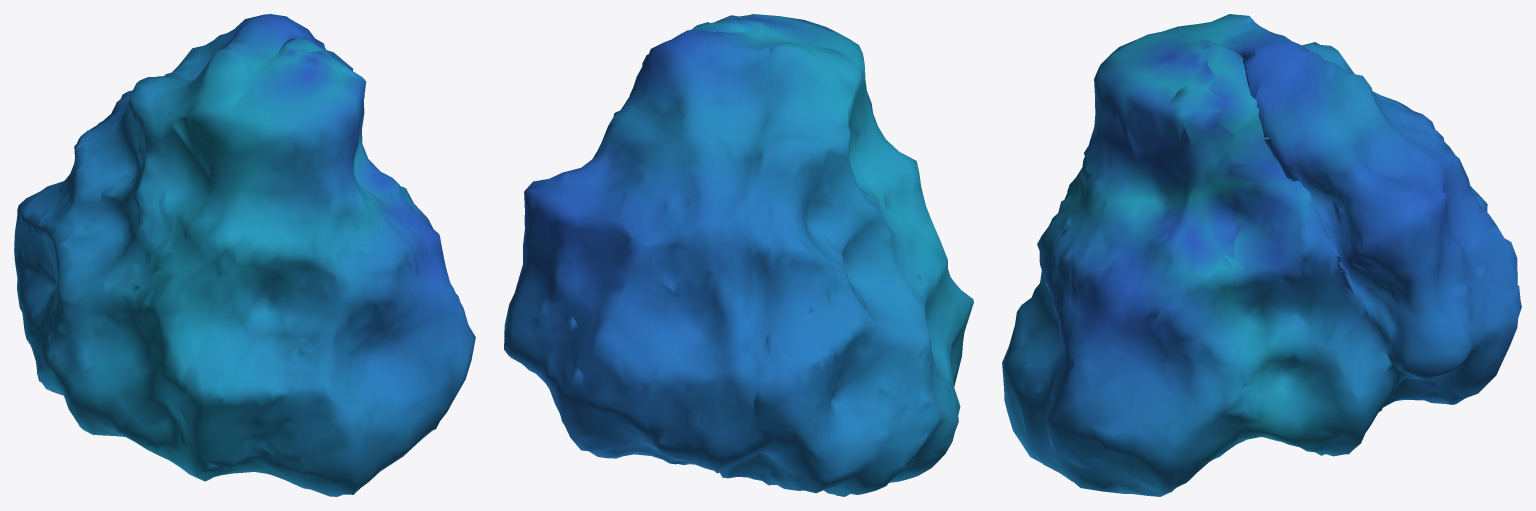
The model's file is Ice_Stone3.fbx.
3 renders of one model, left to right at view 1: azimuth 30°, elevation 25°; view 2: azimuth 150°, elevation 25°; view 3: azimuth 270°, elevation 25°, orthographic. The views are drawn at different scales.
Parts seen in each view (by area): view 1: rock.010; view 2: rock.010; view 3: rock.010.
Boxes of the visible parts, x1,y1,x2,y2 form: rock.010: (14, 14, 475, 496); rock.010: (504, 14, 973, 496); rock.010: (1002, 14, 1521, 496).
Size of the model in its own units: 291 by 319 by 340.
